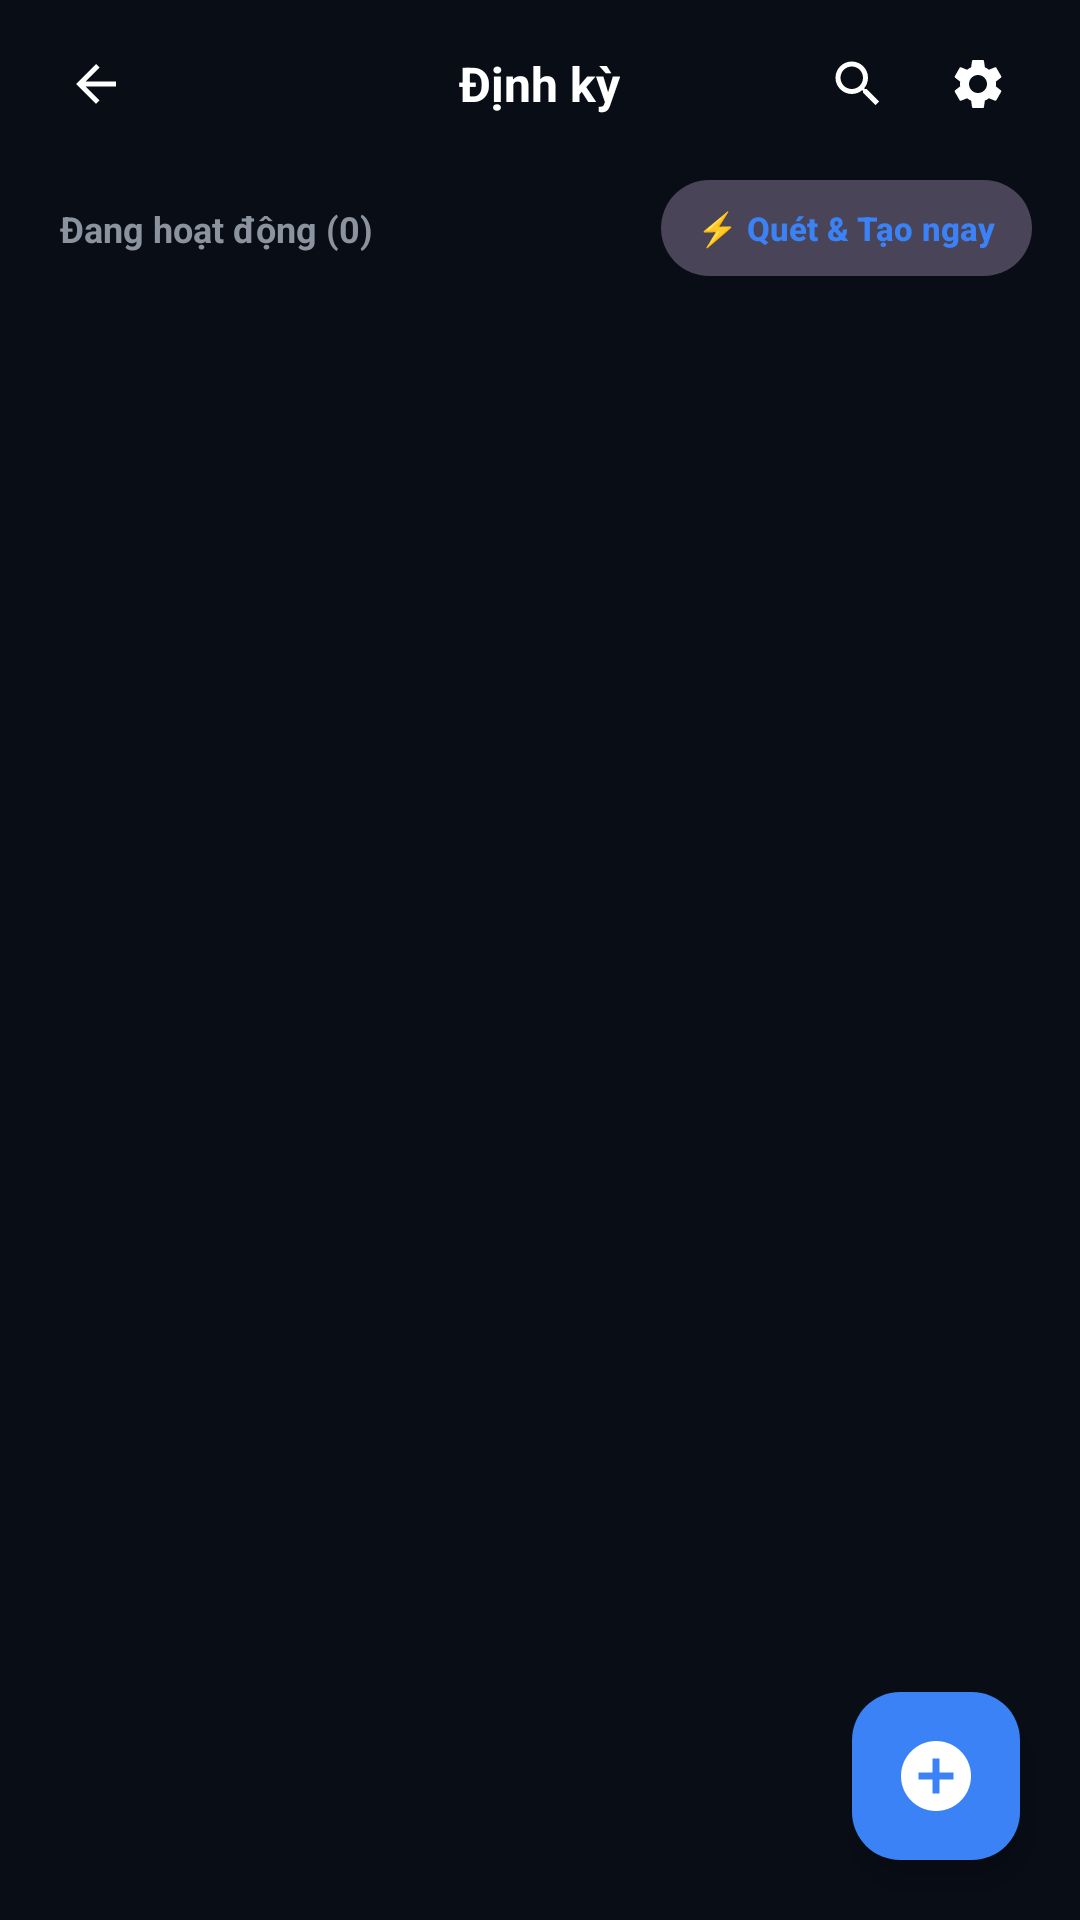

Named icons in this screenshot (1080*1920) and their centers, point (x, y):
add: point (936, 1776)
Back: point (96, 84)
search lens: point (857, 83)
settings: point (978, 84)
